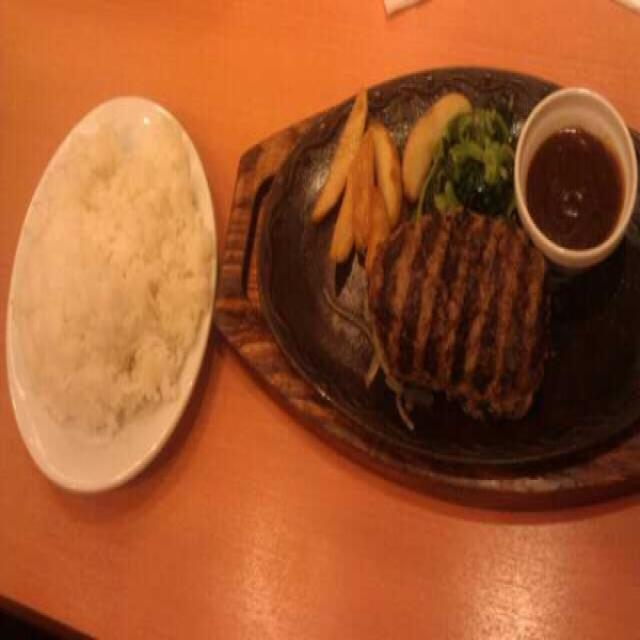Rice: (32, 109, 208, 424)
